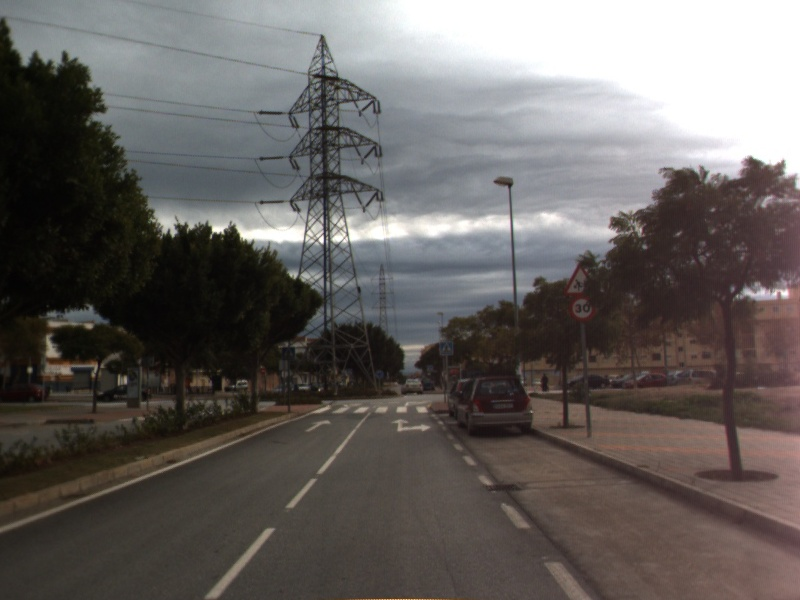STRAIGHT: (303, 417, 333, 434)
STRAIGHT_RIGHT: (389, 416, 433, 434)
